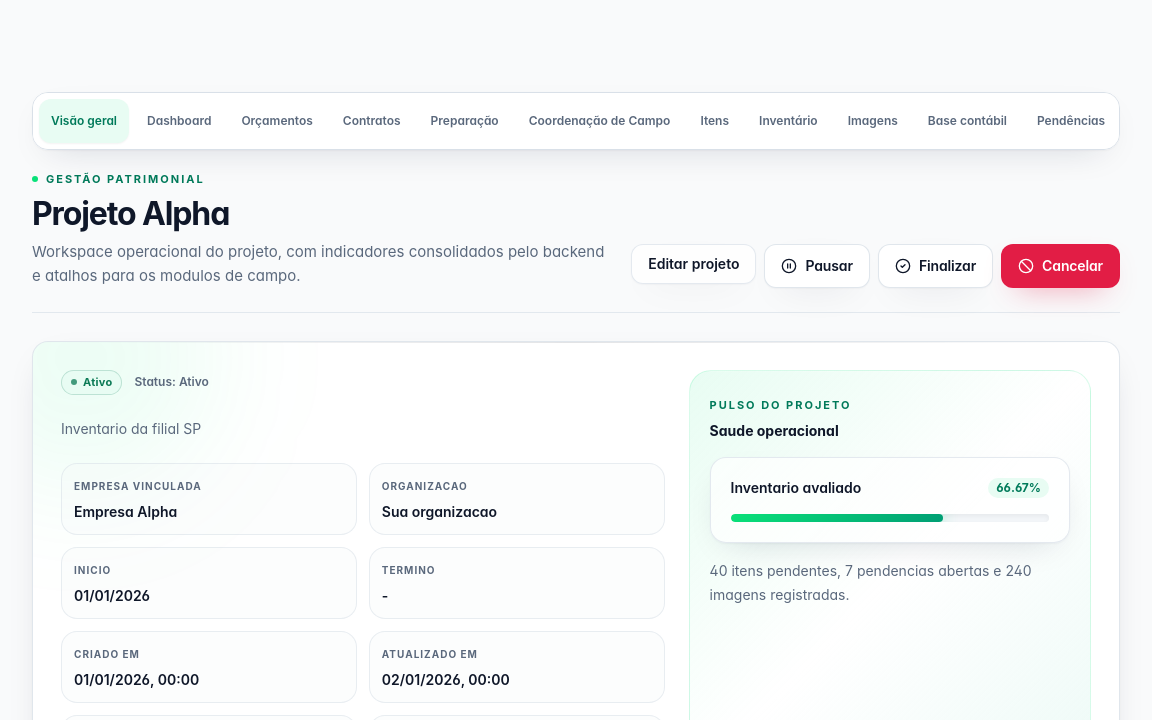
Scenario: ProjectSummaryPage workspace › navega entre abas e atalho novo item
Click the link "Itens". click: (715, 120)
box: [700,113,729,128]
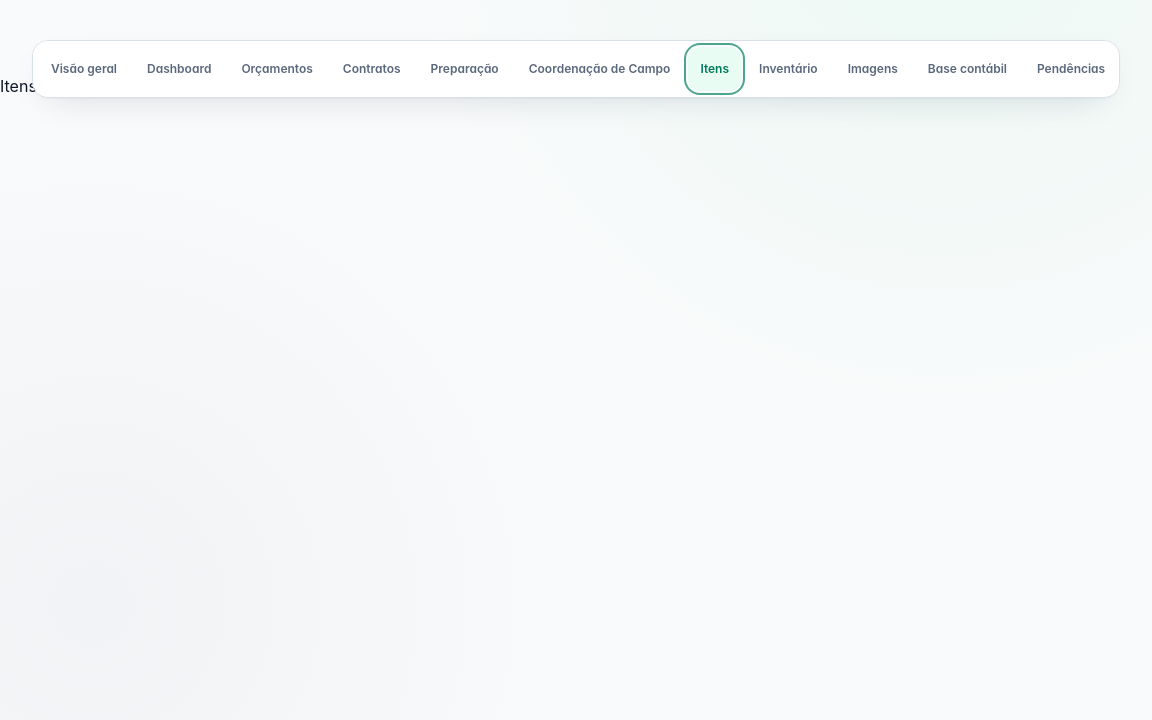
Now the heading "Itens do projeto" is shown, box [0,76,118,96]
